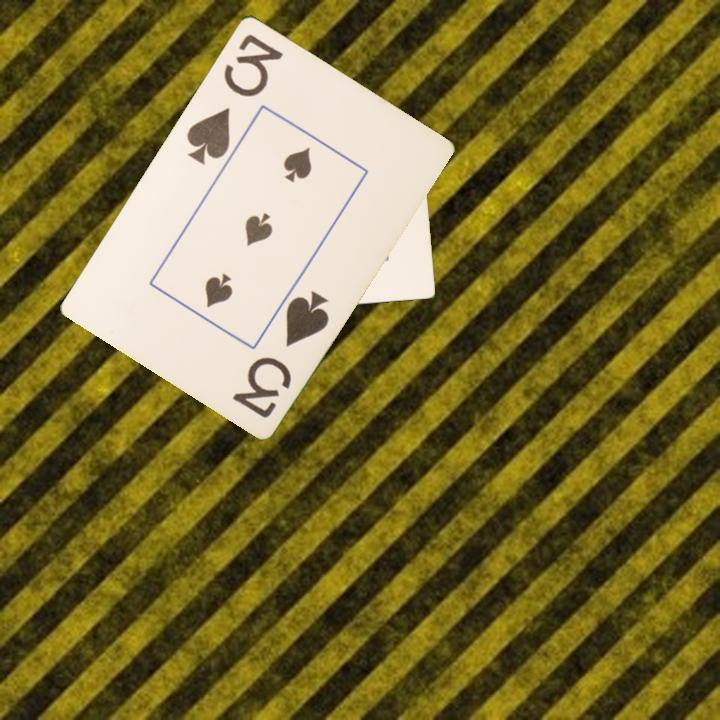3s: (182, 29, 286, 168), (228, 285, 332, 421)
